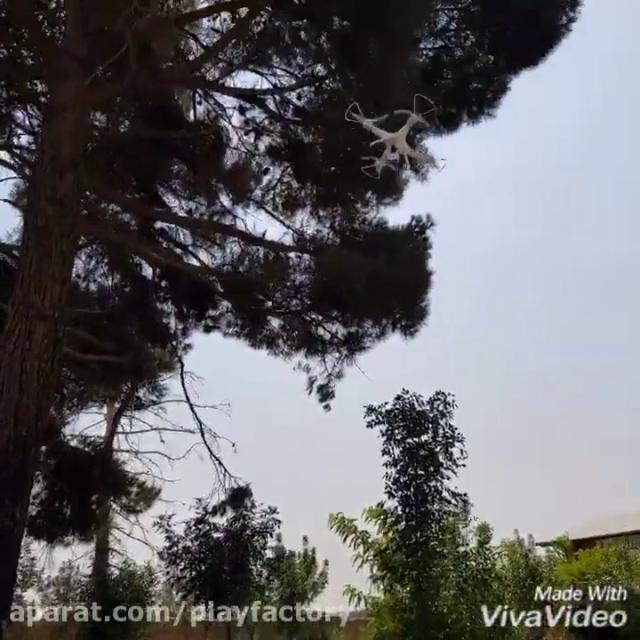drone: (345, 93, 446, 177)
